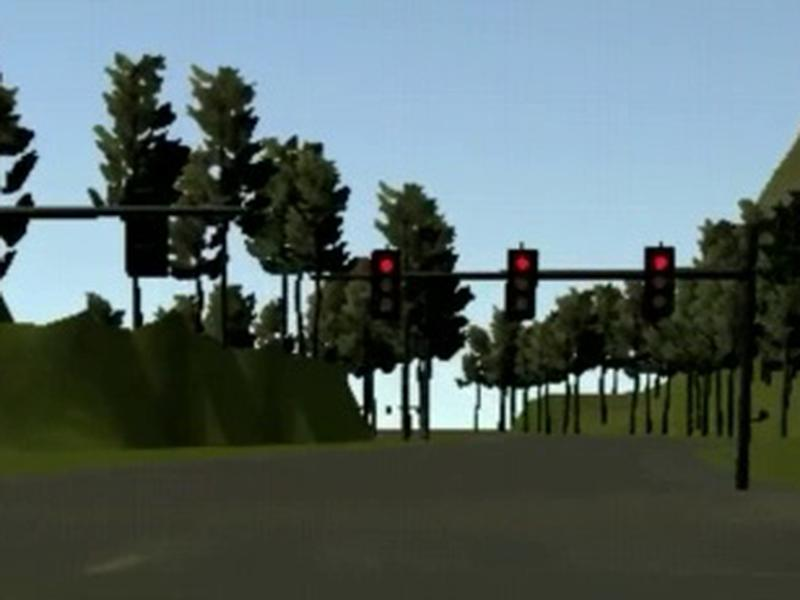Red: (642, 245, 675, 316), (506, 248, 536, 319), (372, 250, 401, 319)
